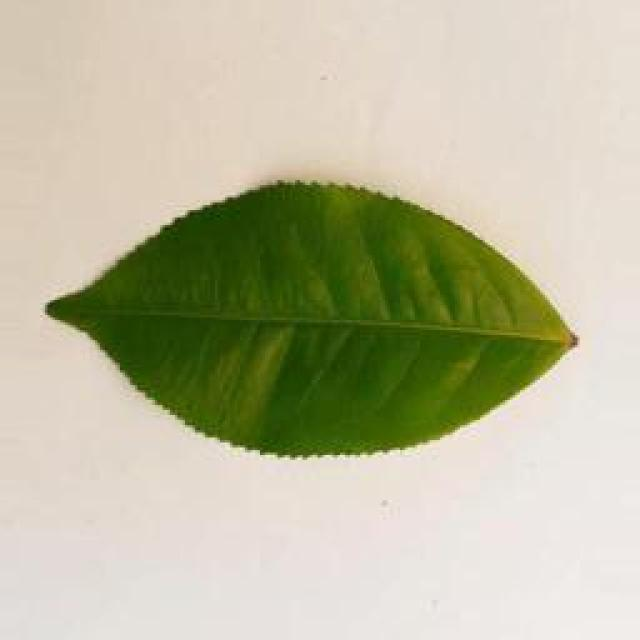Healthy: (37, 174, 580, 458)
